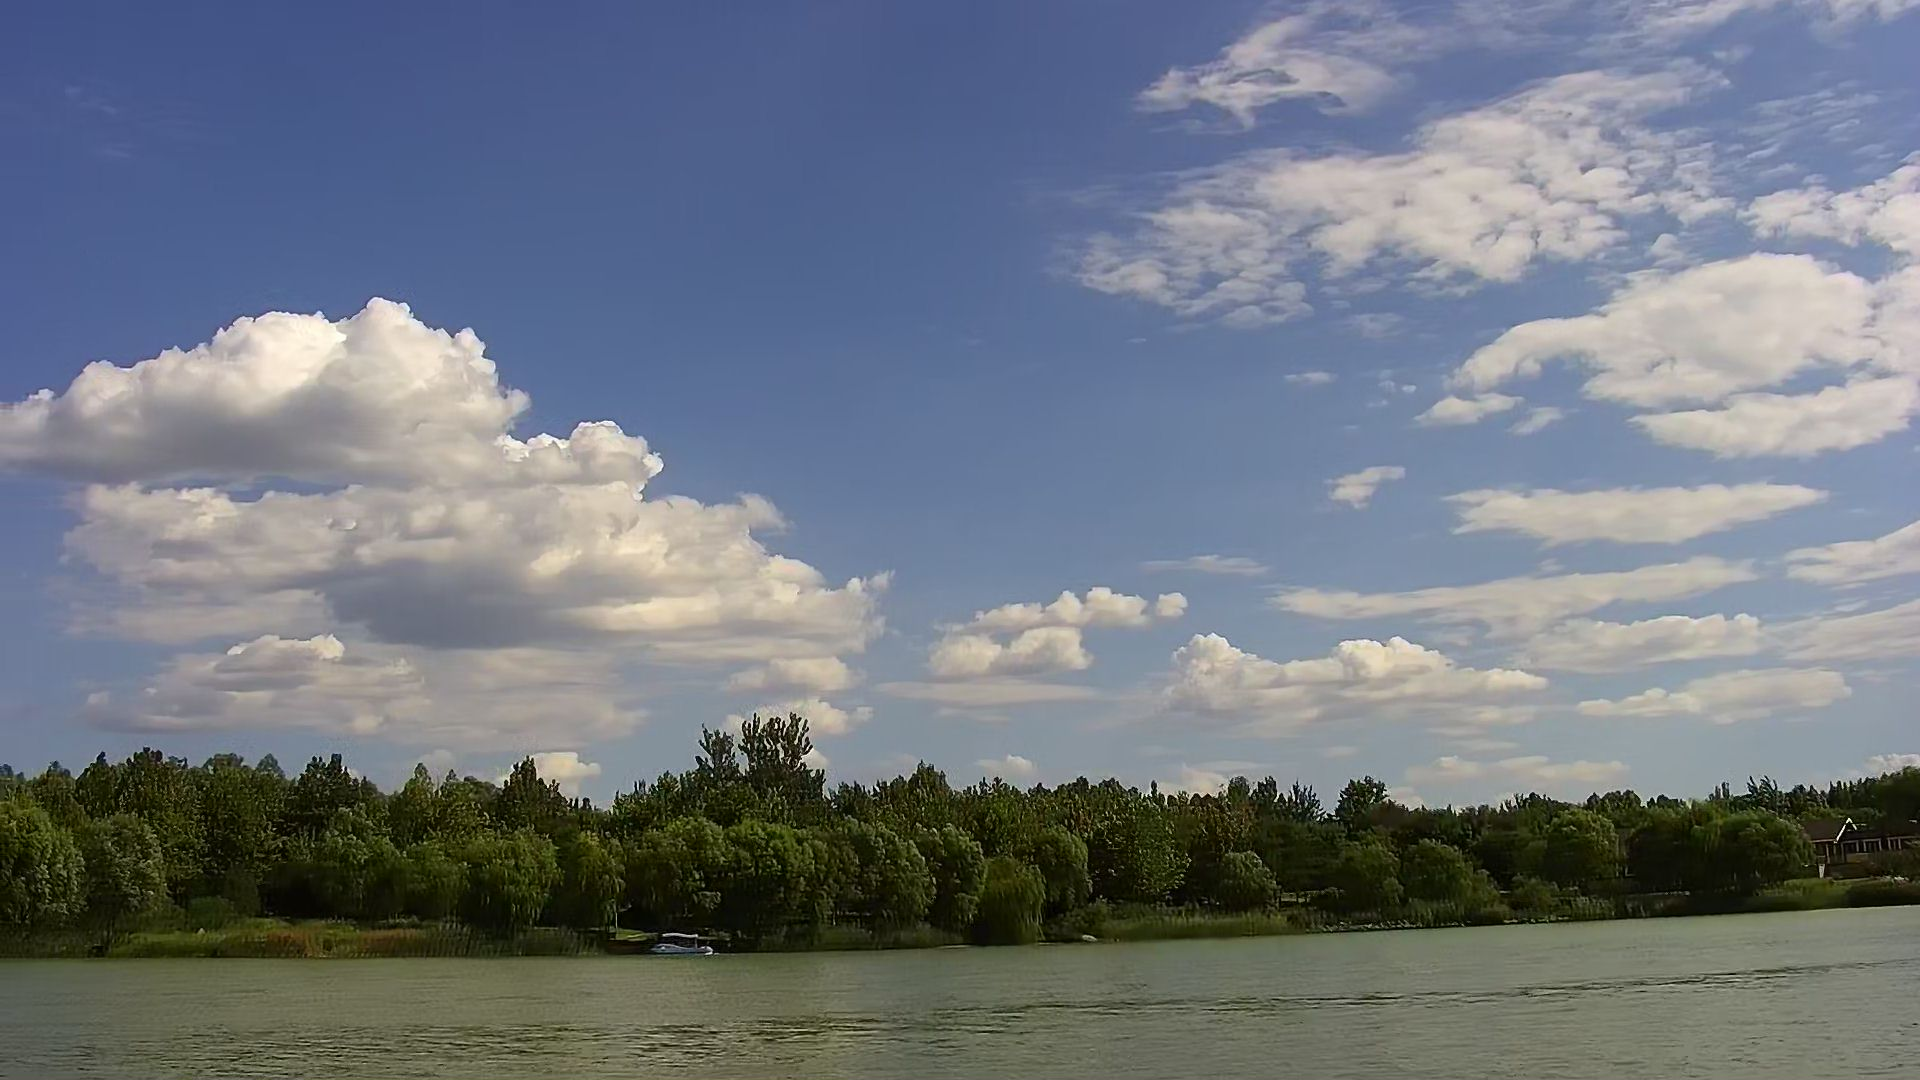boat: (650, 928, 717, 957)
